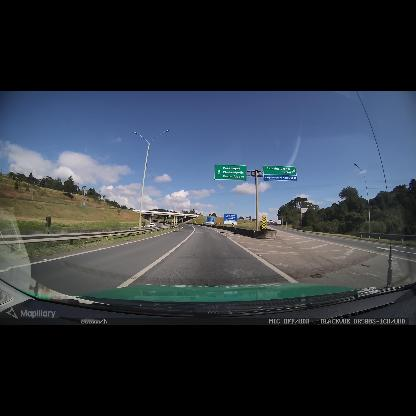O-MP: (262, 215, 266, 229)
